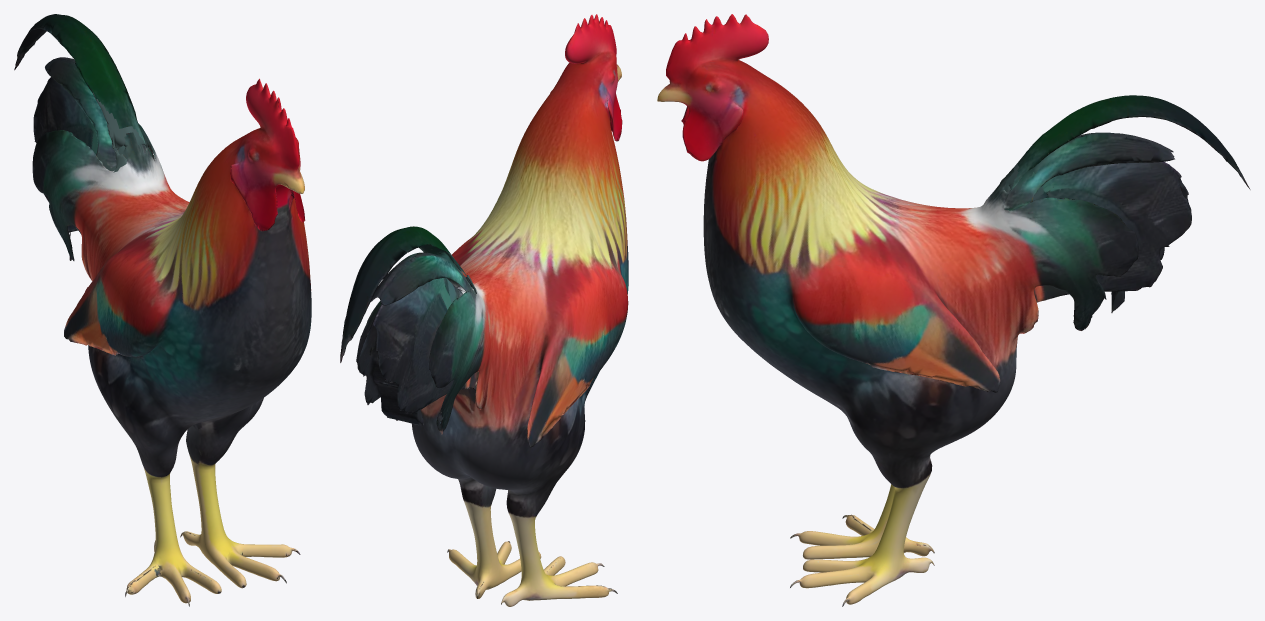
The model's file is vet_animal_rooster.glb.
3 renders of one model, left to right at view 1: azimuth 30°, elevation 25°; view 2: azimuth 150°, elevation 25°; view 3: azimuth 270°, elevation 25°, orthographic. The views are drawn at different scales.
Parts seen in each view (by area): view 1: model; view 2: model; view 3: model.
Boxes of the visible parts, bbox=[...] form: model: bbox=[14, 14, 311, 606]; model: bbox=[340, 14, 628, 606]; model: bbox=[657, 14, 1250, 606].
Bounding box in the file's own units: 0.6458 × 1.88 × 1.83.
1 material, 1 textured.
